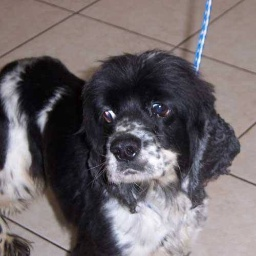dog: (2, 44, 232, 256)
